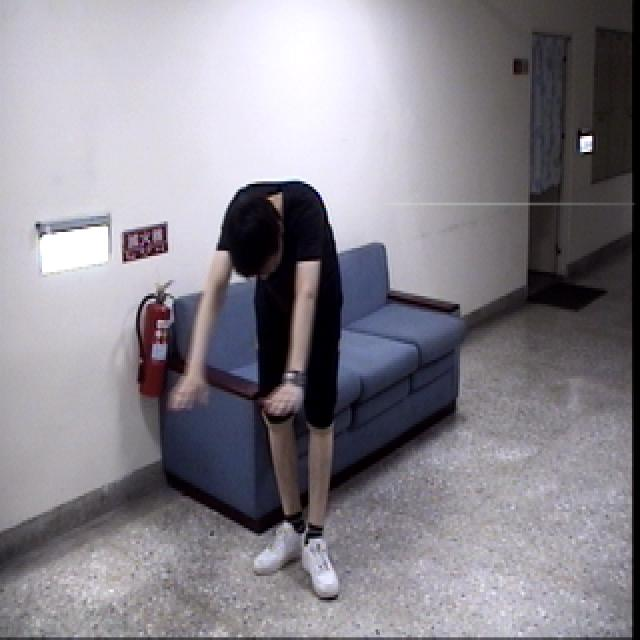bend: (165, 171, 354, 607)
